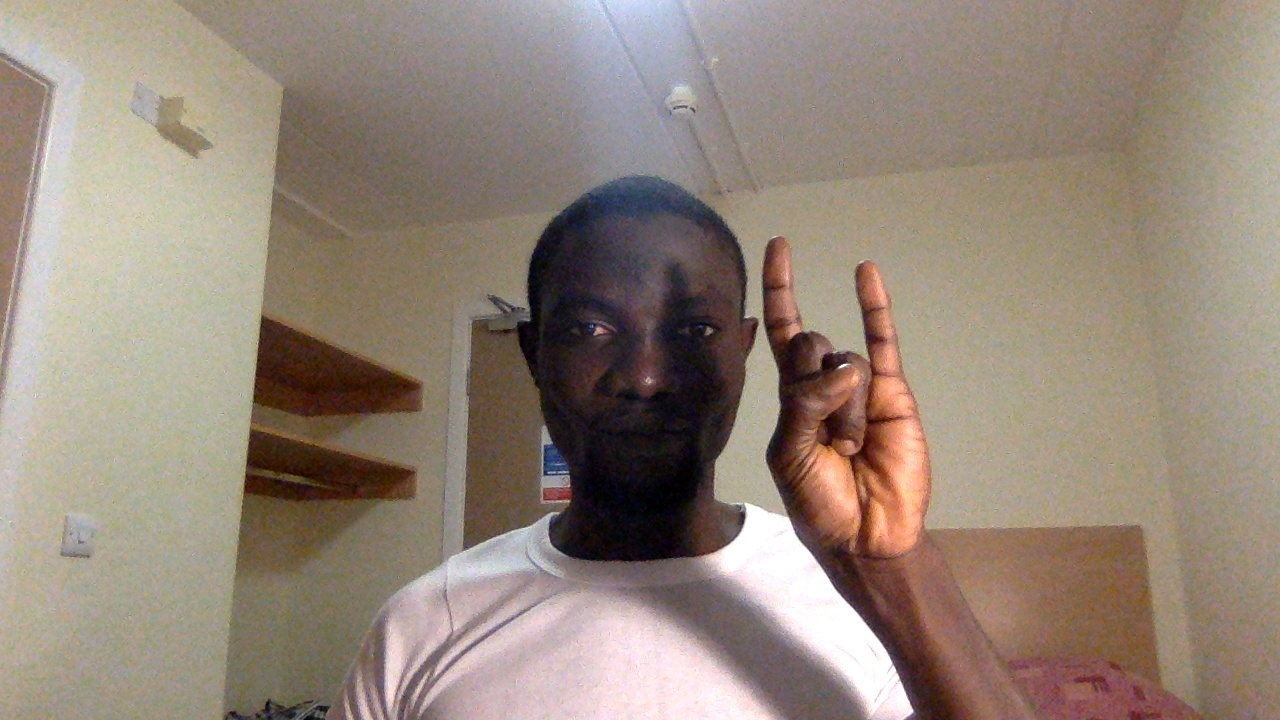I Love You: (754, 222, 950, 564)
